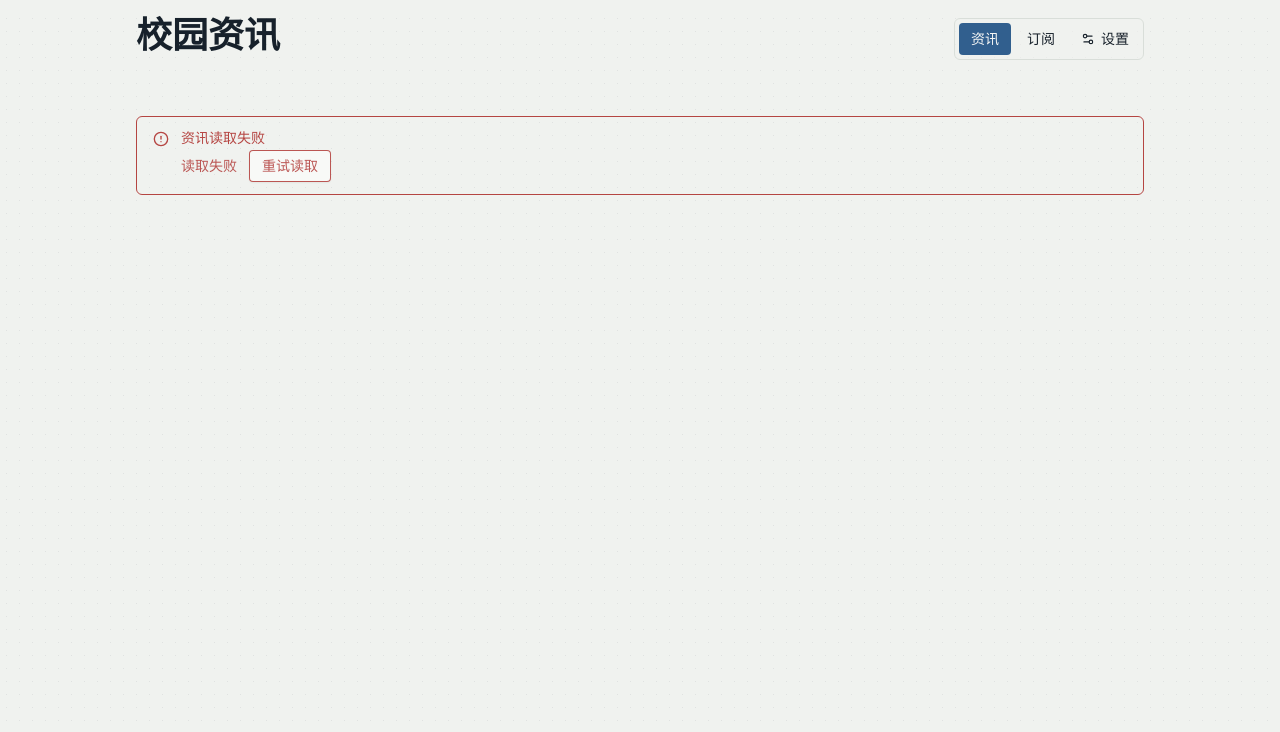
Scenario: campus-feed view (source/tag/unread filters) › shows read failure and retries the snapshot read
Expected: the text "资讯读取失败" is shown, [181, 130, 265, 146]
Click the button "重试读取": (290, 166) [249, 150, 331, 182]
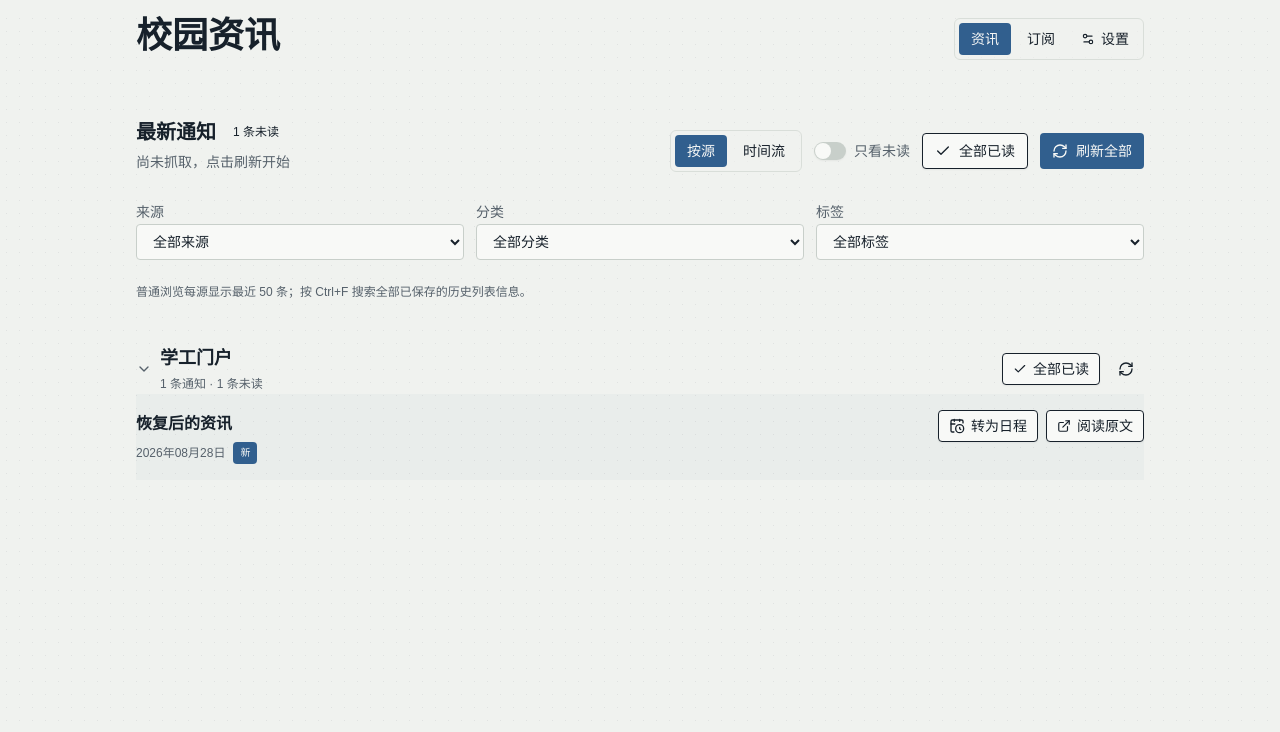
Now the heading "恢复后的资讯" is shown, box [136, 415, 232, 432]
